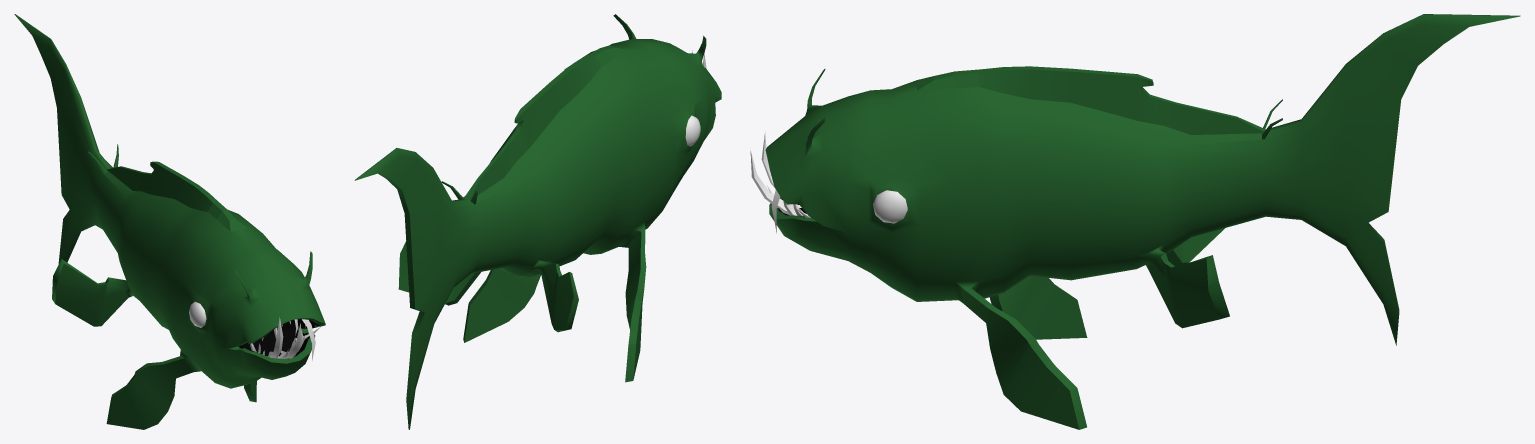
The model's file is freakfish_materials_1.fbx.
The picture shows the model from 3 angles, left to right: view 1: azimuth 30°, elevation 25°; view 2: azimuth 150°, elevation 25°; view 3: azimuth 270°, elevation 25°; orthographic projection. The views are drawn at different scales.
Parts seen in each view (by area): view 1: freakyfish_low; view 2: freakyfish_low; view 3: freakyfish_low.
Part boxes in pixels (box(x1,y1,x2,y2)): freakyfish_low: box(14, 14, 325, 429); freakyfish_low: box(354, 14, 721, 429); freakyfish_low: box(765, 14, 1520, 429).
Size of the model in its own units: 161 by 284 by 539.
